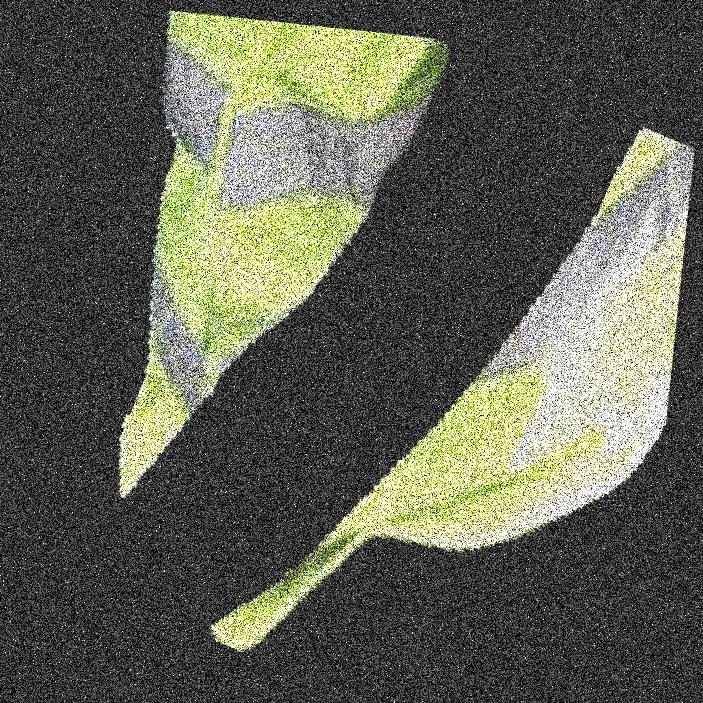Colete: (151, 0, 266, 702)
